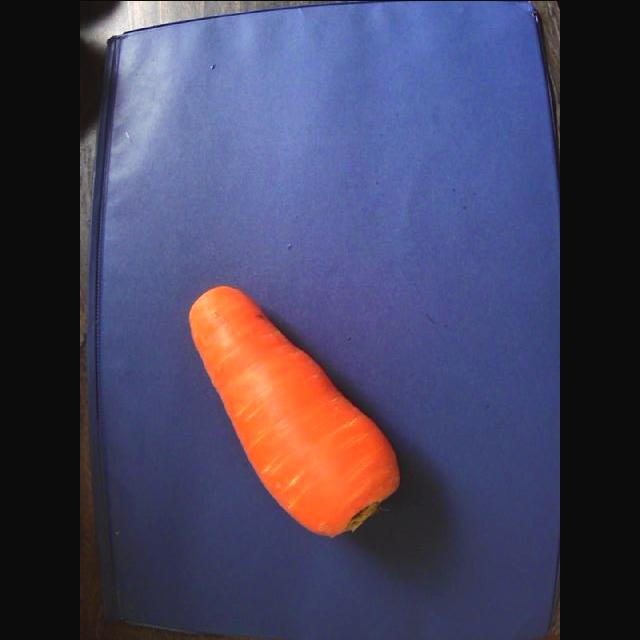zanahoria: (190, 287, 399, 536)
